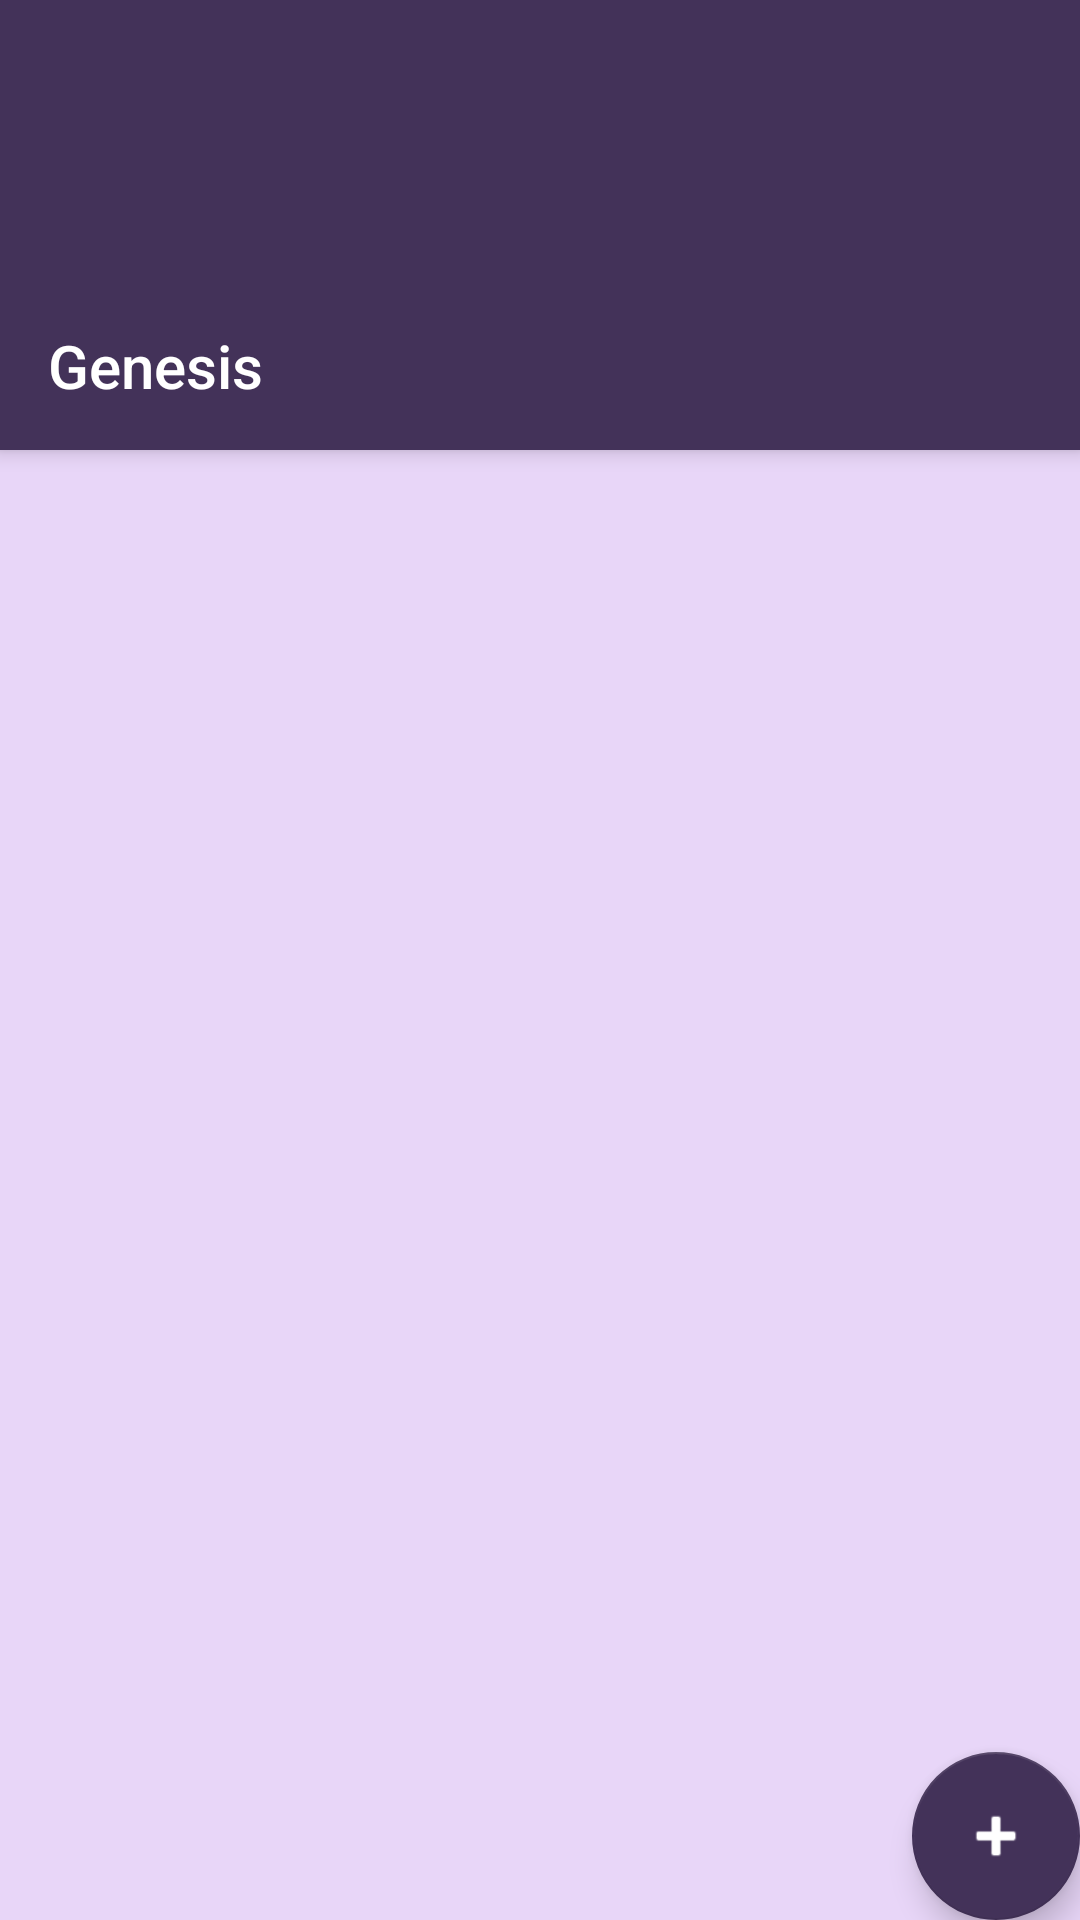

Where icons sit on this 1080px×1920px app screen, as (x1, y1, x2, y2):
Add Button: (912, 1752, 1080, 1920)
